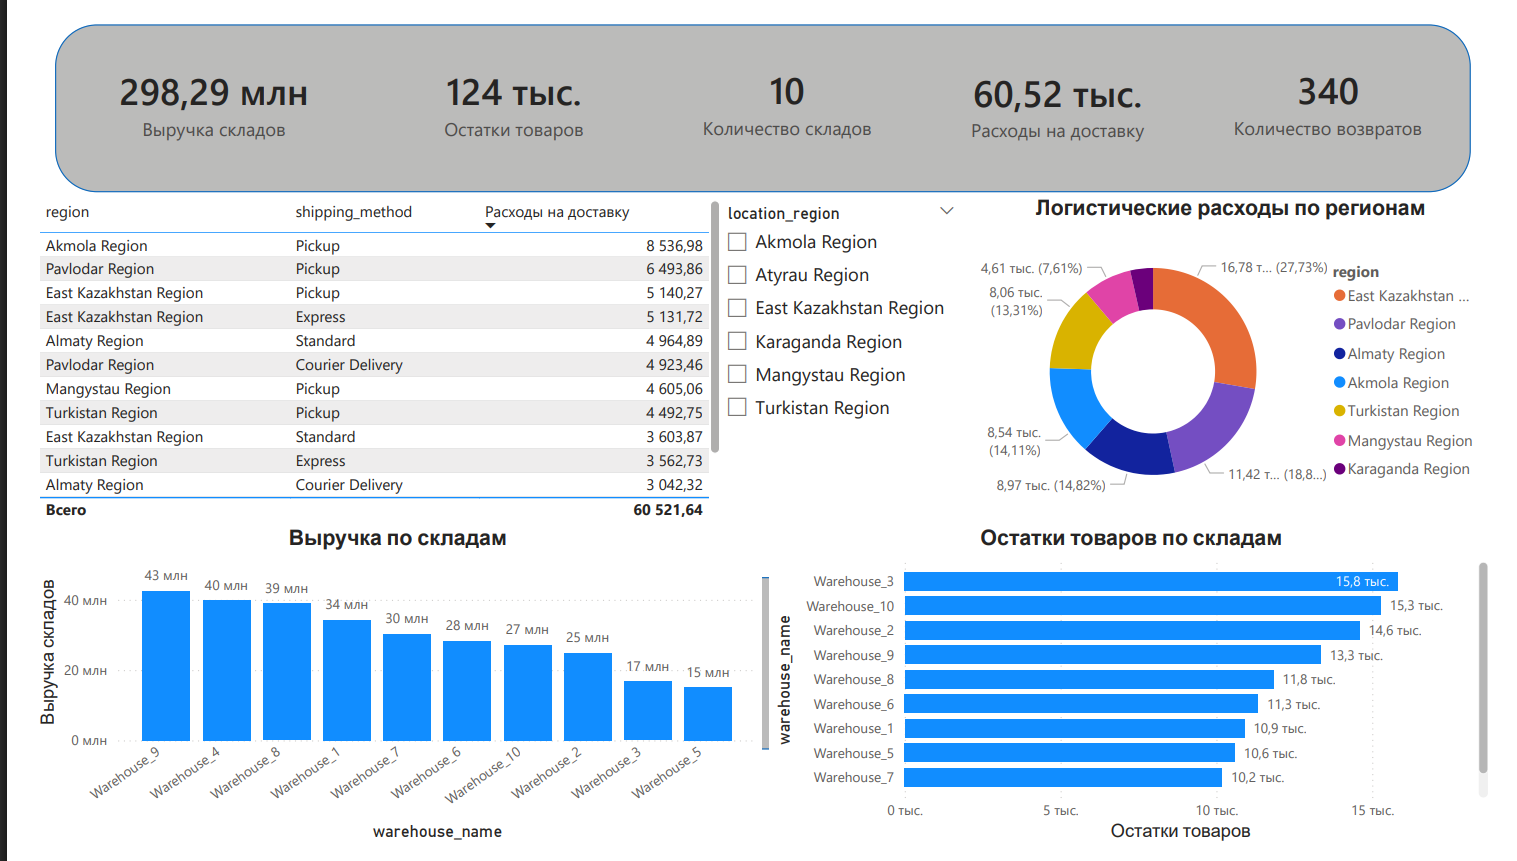

The page's visual inventory and layout, read from the dashboard file:
{"tool":"powerbi","page":{"name":"Логистика и склады","canvas":[1280,720],"ordinal":1},"visuals":[{"type":"cardVisual","fields":{"Data":["Таблица.Расходы на доставку"]},"box":[778,3.3,239.2,134.2],"z":0,"group":"g1"},{"type":"shape","box":[0,484,1249.4,150.6],"z":0},{"type":"cardVisual","fields":{"Data":["Таблица.Количество возвратов"]},"box":[1008.6,0,251.9,135.8],"z":1000,"group":"g1"},{"type":"cardVisual","fields":{"Data":["Таблица.Количество сотрудников"]},"box":[677.8,500,244.4,134.6],"z":1000},{"type":"clusteredColumnChart","title":"Выручка по складам","fields":{"Y":["Таблица.Выручка складов"],"Category":["Student public_wb.warehouse_name"]},"box":[0,439,639.4,281.4],"z":2000},{"type":"cardVisual","fields":{"Data":["Таблица.Выручка складов"]},"box":[18.5,2.2,278.7,134.2],"z":3000,"group":"g1"},{"type":"clusteredBarChart","title":"Остатки товаров по складам","fields":{"Category":["Student public_wb.warehouse_name"],"Y":["Таблица.Остатки товаров"]},"box":[645.3,439,635,281.4],"z":3000},{"type":"donutChart","title":"Логистические расходы по регионам","fields":{"Category":["Student tariffs_and_shipping.region"],"Y":["Таблица.Расходы на доставку"]},"box":[819.2,150.3,461.1,288.8],"z":4000},{"type":"slicer","fields":{"Values":["Student public_wb.location_region"]},"box":[596.3,151.9,223.5,208.6],"z":5000},{"type":"group","id":"g1","title":"Группа 1","box":[18.5,0,1242,137],"z":6000},{"type":"cardVisual","fields":{"Data":["Таблица.Остатки товаров"]},"box":[297.2,2.2,247.4,134.2],"z":6000,"group":"g1"},{"type":"tableEx","fields":{"Values":["Student tariffs_and_shipping.region","Student tariffs_and_shipping.shipping_method","Таблица.Расходы на доставку"]},"box":[0,149.4,607.4,290.1],"z":7000},{"type":"shape","box":[18.5,0,1242,146.9],"z":8000},{"type":"cardVisual","fields":{"Data":["Таблица.Количество складов"]},"box":[544.2,0.4,232.5,135.4],"z":8000,"group":"g1"}]}

Visuals, with their boxes in screenshot pixels (x1, y1, x2, y2), scaled from the page's 1280x720 canvas onto the 1517x861 screenshot:
cardVisual - Таблица.Расходы на доставку: [x1=922, y1=4, x2=1206, y2=164]
shape: [x1=0, y1=579, x2=1481, y2=759]
cardVisual - Таблица.Количество возвратов: [x1=1195, y1=0, x2=1494, y2=162]
cardVisual - Таблица.Количество сотрудников: [x1=803, y1=598, x2=1093, y2=759]
"Выручка по складам" clusteredColumnChart: [x1=0, y1=525, x2=758, y2=860]
cardVisual - Таблица.Выручка складов: [x1=22, y1=3, x2=352, y2=163]
"Остатки товаров по складам" clusteredBarChart: [x1=765, y1=525, x2=1516, y2=860]
"Логистические расходы по регионам" donutChart: [x1=971, y1=180, x2=1516, y2=525]
slicer - Student public_wb.location_region: [x1=707, y1=182, x2=972, y2=431]
"Группа 1" group: [x1=22, y1=0, x2=1494, y2=164]
cardVisual - Таблица.Остатки товаров: [x1=352, y1=3, x2=645, y2=163]
tableEx - Student tariffs_and_shipping.region x Student tariffs_and_shipping.shipping_method: [x1=0, y1=179, x2=720, y2=526]
shape: [x1=22, y1=0, x2=1494, y2=176]
cardVisual - Таблица.Количество складов: [x1=645, y1=0, x2=921, y2=162]
